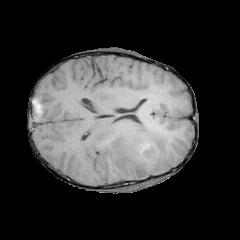glioma: (105, 122, 172, 178)
